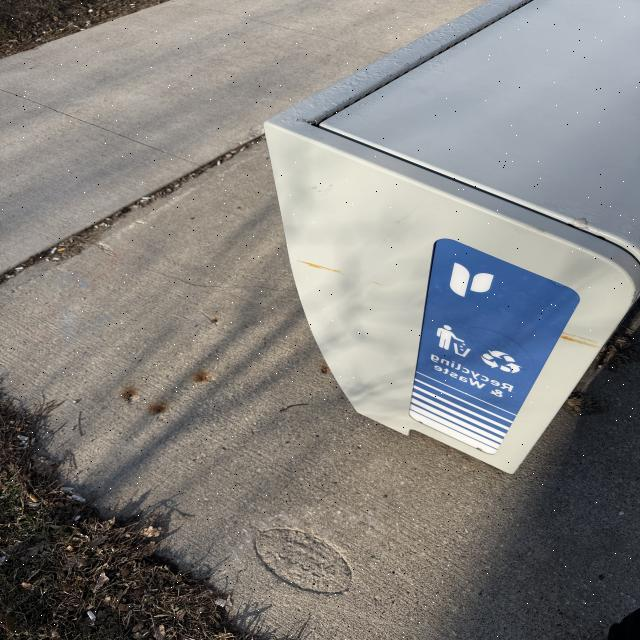Dustbin: (261, 0, 640, 477)
